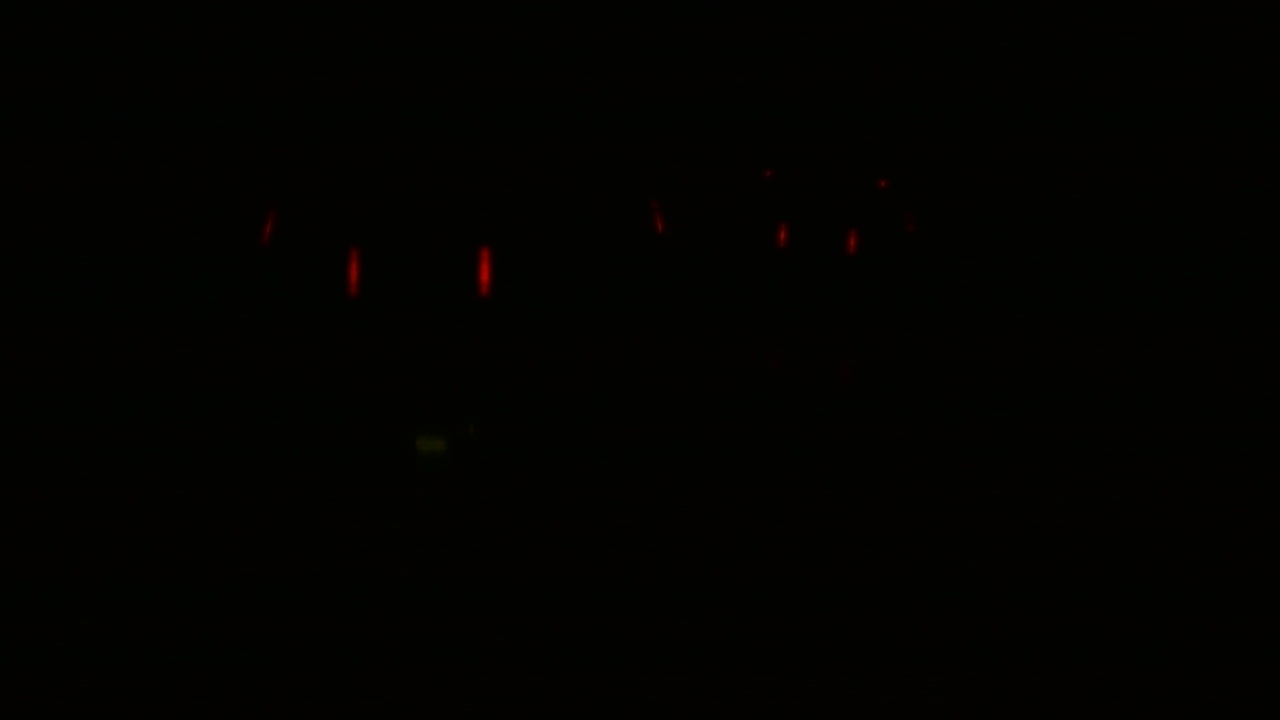pair1: (344, 247, 492, 297), (765, 219, 860, 268)
